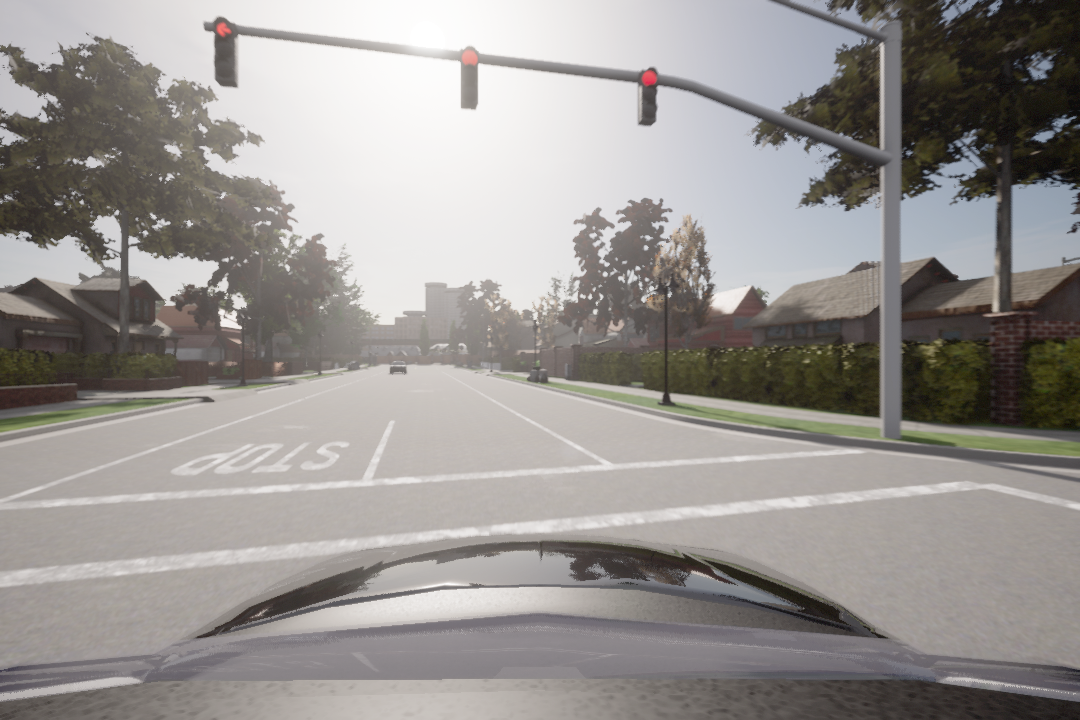TrafficLight: (211, 13, 245, 94), (635, 67, 664, 129), (458, 47, 480, 113)
